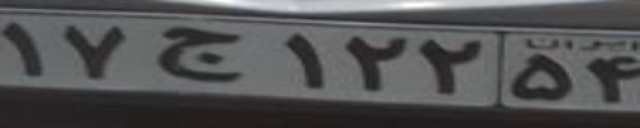1: (282, 30, 327, 88), (1, 21, 41, 77)
2: (344, 34, 408, 89), (420, 39, 483, 94)
4: (584, 54, 639, 102)
5: (507, 53, 573, 101)
7: (62, 22, 126, 78)
jim: (156, 27, 242, 81)
